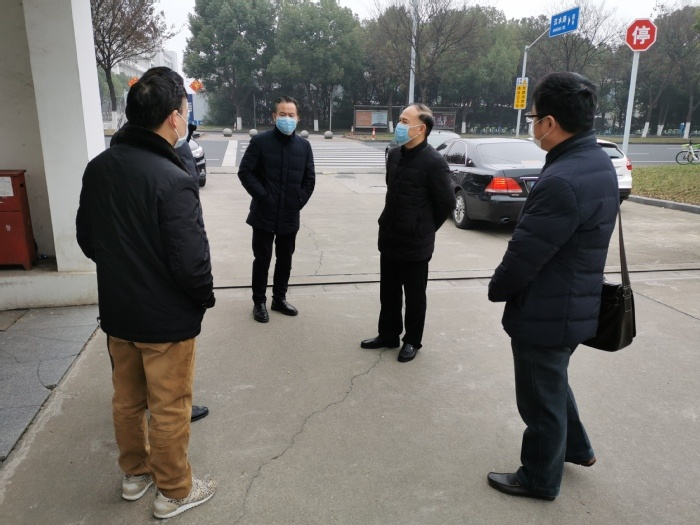correctlyWear: (524, 96, 556, 154), (168, 95, 191, 149), (393, 115, 428, 149), (272, 106, 298, 134)
